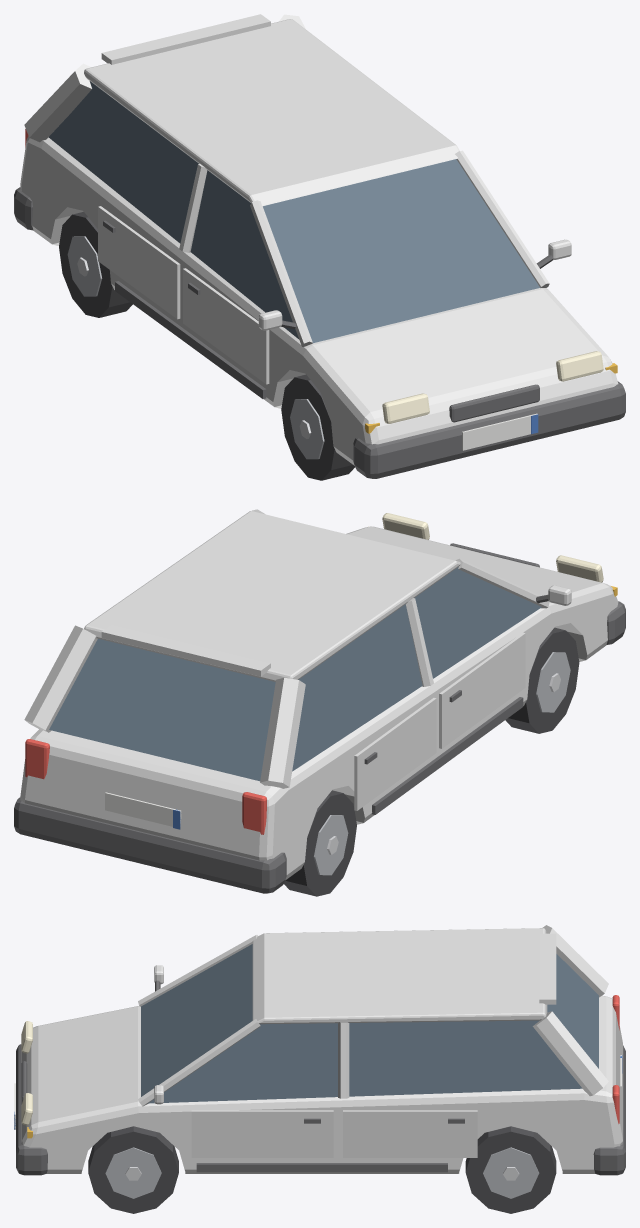
The model's file is car-compact.glb.
3 renders of one model, top to bottom at view 1: azimuth 30°, elevation 25°; view 2: azimuth 150°, elevation 25°; view 3: azimuth 270°, elevation 25°, orthographic. The views are drawn at different scales.
Parts seen in each view (by area): view 1: body, detach_bumper_front, detach_door_right, wheel-front-right, wheel-back-right; view 2: body, detach_bumper_back, detach_door_right, wheel-back-right, wheel-front-right, detach_bumper_front; view 3: body, detach_door_left, wheel-front-left, wheel-back-left, detach_bumper_front, detach_bumper_back.
Boxes of the visible parts, x1,y1,x2,y2 form: body: (20, 14, 618, 465); detach_bumper_front: (353, 381, 625, 478); detach_door_right: (183, 268, 269, 384); wheel-front-right: (281, 374, 354, 480); wheel-back-right: (59, 211, 132, 317); body: (20, 509, 618, 880); detach_bumper_back: (14, 797, 286, 893); detach_door_right: (439, 632, 525, 748); wheel-back-right: (284, 790, 356, 896); wheel-front-right: (505, 627, 579, 733); detach_bumper_front: (606, 601, 625, 644); body: (21, 925, 622, 1173); detach_door_left: (191, 1110, 333, 1157); wheel-front-left: (88, 1126, 178, 1213); wheel-back-left: (465, 1126, 556, 1213); detach_bumper_front: (14, 1044, 47, 1175); detach_bumper_back: (593, 1045, 625, 1175).
Size of the model in its own units: 2.14 by 1.53 by 4.31.
